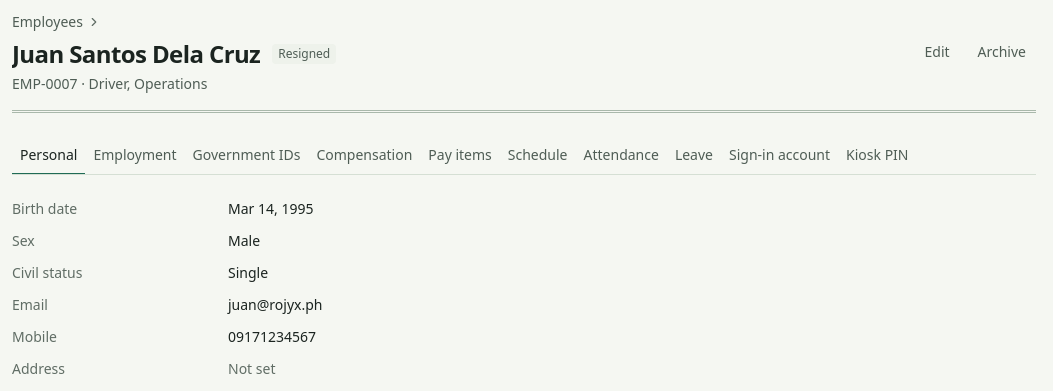
Test: EmployeeProfilePage › archives a separated employee
The image size is (1053, 391).
Click the button "Archive".
click(1002, 52)  # box x1=968 y1=38 x2=1036 y2=66
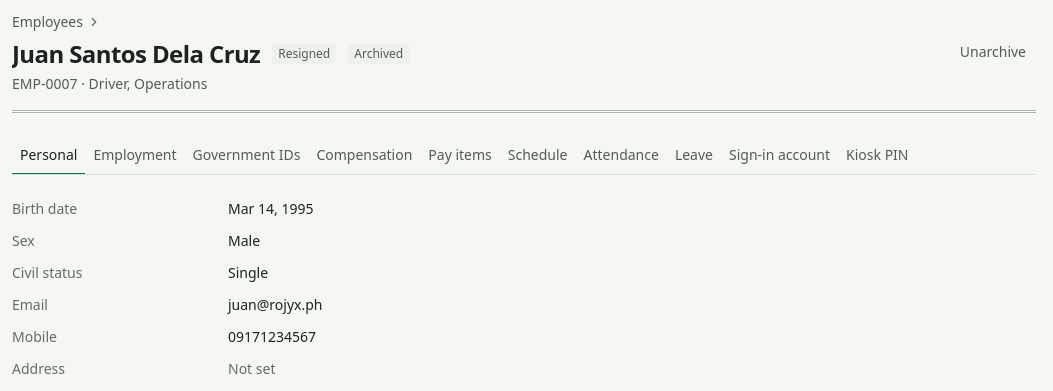
Expected: the text "Archived" is shown, x1=348 y1=44 x2=409 y2=64
Expected: the button "Unarchive" is shown, x1=950 y1=38 x2=1036 y2=66
Expected: the link "Edit" is gone
